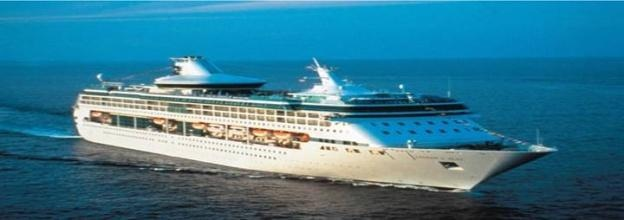youlun: (68, 51, 555, 190)
